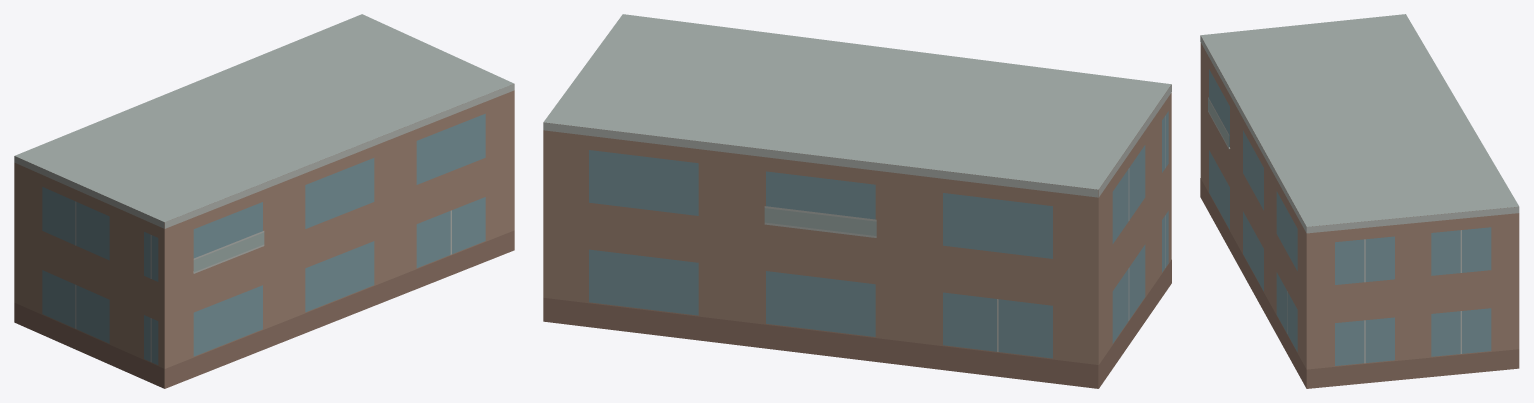
Rendered from survey-upis-32775768.glb.
The picture shows the model from 3 angles, left to right: view 1: azimuth 30°, elevation 25°; view 2: azimuth 150°, elevation 25°; view 3: azimuth 270°, elevation 25°; orthographic projection. The views are drawn at different scales.
Visible parts, largest first — view 1: survey-upis-32775768.tmp; view 2: survey-upis-32775768.tmp; view 3: survey-upis-32775768.tmp.
Boxes of the visible parts, x1,y1,x2,y2 form: survey-upis-32775768.tmp: (14, 14, 514, 388); survey-upis-32775768.tmp: (543, 14, 1171, 388); survey-upis-32775768.tmp: (1200, 14, 1519, 388).
Size of the model in its own units: 17.22 by 6.1 by 10.9.
